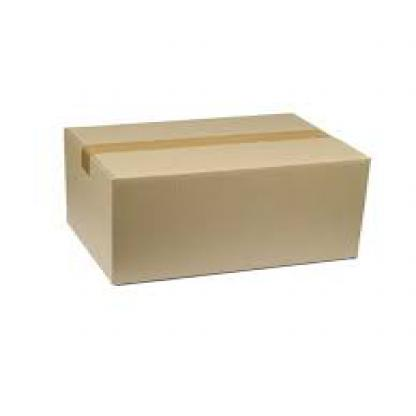paquete: (36, 100, 382, 284)
